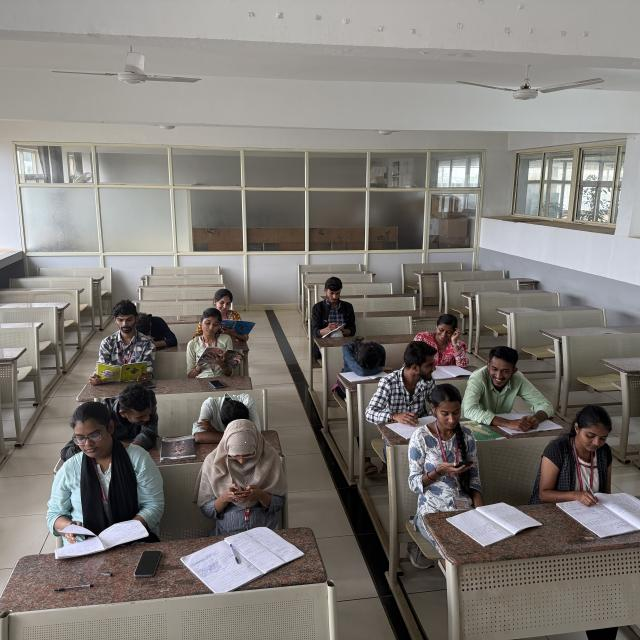Reading: (50, 405, 165, 555), (82, 302, 154, 388), (184, 310, 242, 377), (202, 289, 255, 340)
Sleeping: (196, 390, 266, 443), (340, 334, 398, 379), (133, 308, 178, 349)
Using Phone: (193, 425, 285, 530), (420, 382, 490, 498)
Writing: (536, 406, 636, 524), (371, 340, 441, 431), (311, 278, 357, 343)
